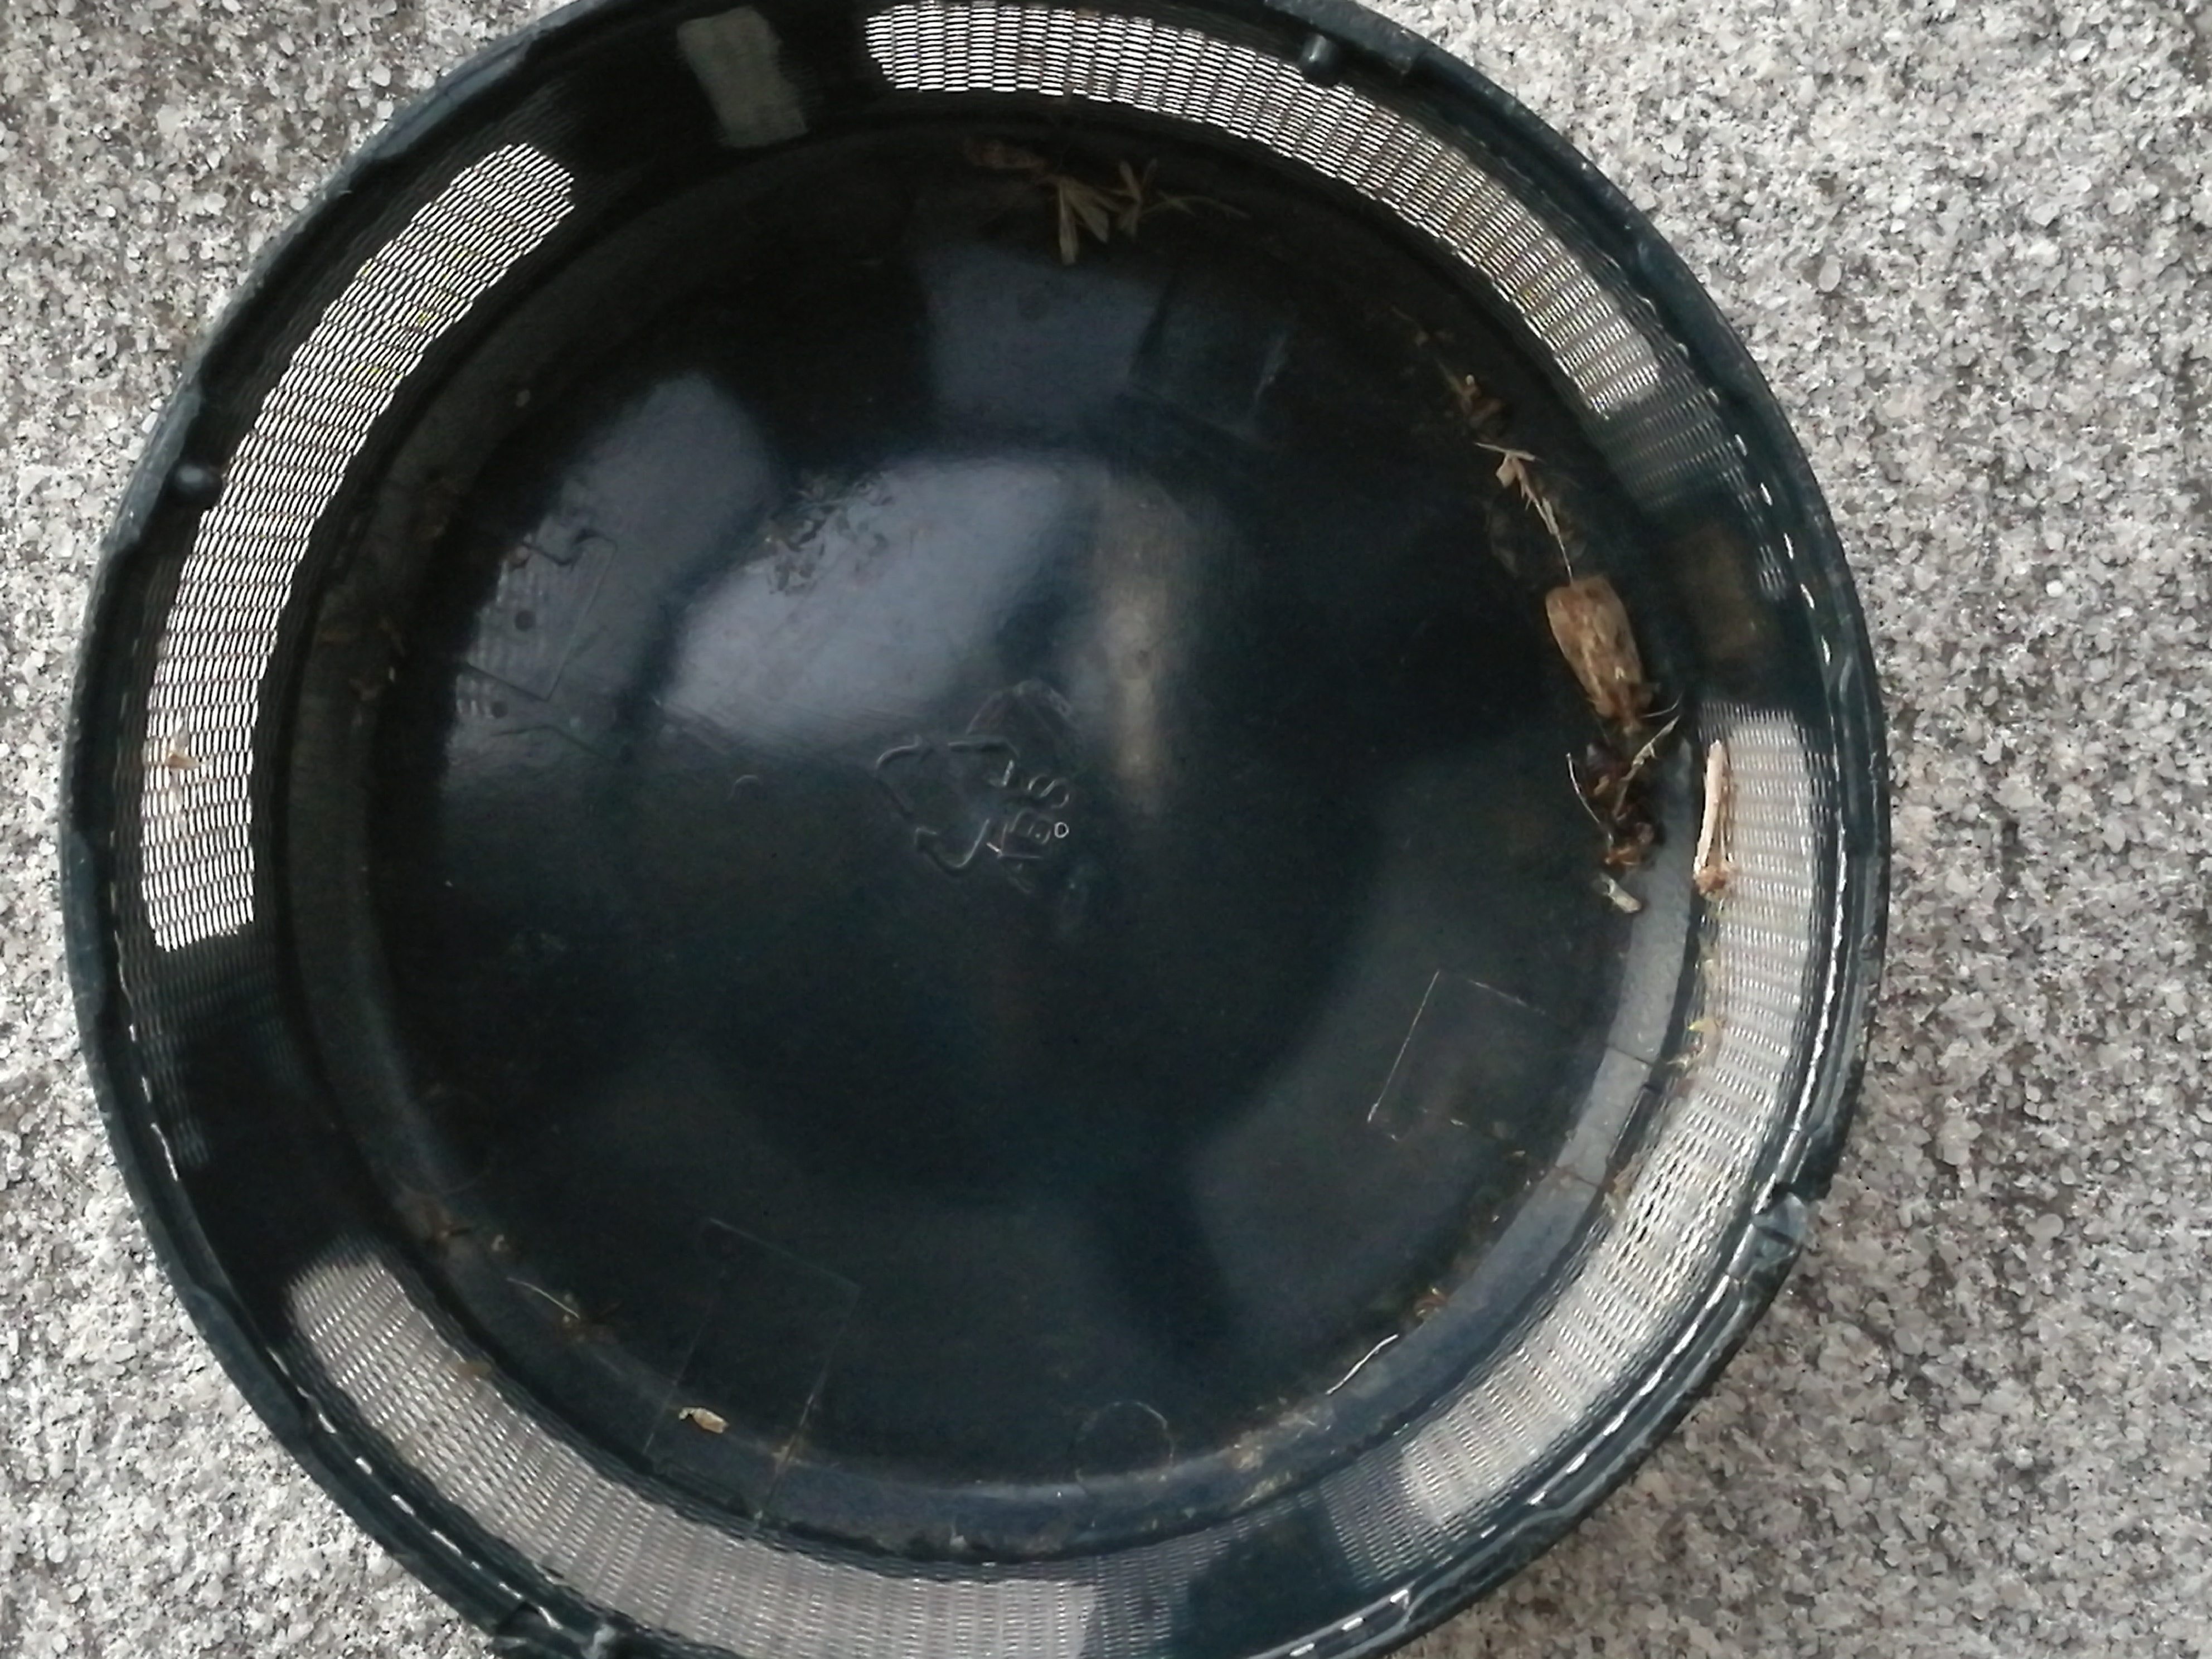mosquito: (1693, 741, 1730, 892)
moth: (975, 136, 1120, 261), (1548, 575, 1646, 737)
